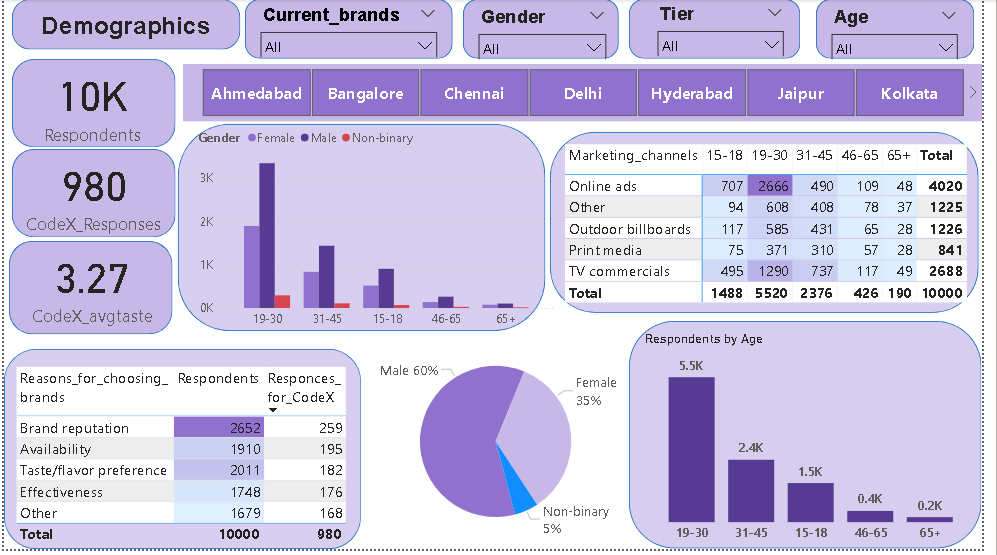

The page's visual inventory and layout, read from the dashboard file:
{"tool":"powerbi","page":{"name":"Demographics","canvas":[1280,720],"ordinal":0},"visuals":[{"type":"shape","box":[818.6,421.2,461.4,297.7],"z":0},{"type":"shape","box":[0,458.4,467.3,262],"z":1000},{"type":"shape","box":[714.4,174.1,561.1,236.7],"z":2000},{"type":"shape","box":[227.7,163.7,480.7,270.9],"z":3000},{"type":"shape","box":[1062.7,0,207.1,78.1],"z":4000},{"type":"shape","box":[818.2,0,224.1,78.1],"z":5000},{"type":"shape","box":[601,0,203.7,78.1],"z":6000},{"type":"shape","box":[315.8,0,271.6,78.1],"z":7000},{"type":"shape","box":[10.2,196.9,213.9,115.4],"z":8000},{"type":"shape","box":[10.2,78.1,213.9,115.4],"z":9000},{"type":"shape","box":[10.2,0,298.8,66.2],"z":10000},{"type":"textbox","box":[10.2,10.2,298.8,47.5],"z":11000},{"type":"card","fields":{"Values":["Measuretable.Total_People"]},"box":[25.5,78.1,181.6,115.4],"z":12000},{"type":"shape","box":[6.8,317.5,213.9,122.2],"z":13000},{"type":"card","fields":{"Values":["Measuretable.Responces_for_CodeX"]},"box":[22.1,193.5,190.1,118.8],"z":14000},{"type":"card","fields":{"Values":["Measuretable.CodeX_avg_taste_exp"]},"box":[25.5,312.4,181.6,122.2],"z":15000},{"type":"pieChart","fields":{"Category":["dim_repondents.Gender"],"Y":["Measuretable.Total_People"]},"box":[468.8,439.1,349.8,281.3],"z":16000},{"type":"columnChart","fields":{"Category":["dim_repondents.Age"],"Y":["Measuretable.Total_People"]},"box":[833.5,434.6,446.5,285.2],"z":17000},{"type":"pivotTable","fields":{"Rows":["fact_survey_responses.Marketing_channels"],"Values":["Measuretable.Total_People"],"Columns":["dim_repondents.Age"]},"box":[733.8,187.5,544.7,217.3],"z":18000},{"type":"clusteredColumnChart","fields":{"Y":["Measuretable.Total_People"],"Category":["dim_repondents.Age"],"Series":["dim_repondents.Gender"]},"box":[250,159.3,474.8,279.8],"z":19000},{"type":"tableEx","fields":{"Values":["fact_survey_responses.Reasons_for_choosing_brands","Measuretable.Total_People","Measuretable.Responces_for_CodeX"]},"box":[10.4,476.3,467.3,242.6],"z":20000},{"type":"slicer","fields":{"Values":["dim_cities.City"]},"box":[234.3,84.9,1045.7,74.7],"z":21000},{"type":"slicer","fields":{"Values":["dim_repondents.Gender"]},"box":[611.1,3.4,186.7,74.7],"z":22000},{"type":"slicer","fields":{"Values":["fact_survey_responses.Current_brands"]},"box":[325.9,1.7,251.2,74.7],"z":23000},{"type":"slicer","fields":{"Values":["dim_repondents.Age"]},"box":[1072.9,3.4,185,74.7],"z":24000},{"type":"slicer","fields":{"Values":["dim_cities.Tier"]},"box":[845.4,0,185,74.7],"z":25000}]}

Visuals, with their boxes in screenshot pixels (x1, y1, x2, y2), scaled from the page's 1280x720 canvas onto the 997x555 screenshot:
shape: <bbox>638, 325, 996, 554</bbox>
shape: <bbox>0, 353, 364, 554</bbox>
shape: <bbox>556, 134, 993, 317</bbox>
shape: <bbox>177, 126, 552, 335</bbox>
shape: <bbox>828, 0, 989, 60</bbox>
shape: <bbox>637, 0, 812, 60</bbox>
shape: <bbox>468, 0, 627, 60</bbox>
shape: <bbox>246, 0, 458, 60</bbox>
shape: <bbox>8, 152, 175, 241</bbox>
shape: <bbox>8, 60, 175, 149</bbox>
shape: <bbox>8, 0, 241, 51</bbox>
textbox: <bbox>8, 8, 241, 44</bbox>
card - Measuretable.Total_People: <bbox>20, 60, 161, 149</bbox>
shape: <bbox>5, 245, 172, 339</bbox>
card - Measuretable.Responces_for_CodeX: <bbox>17, 149, 165, 241</bbox>
card - Measuretable.CodeX_avg_taste_exp: <bbox>20, 241, 161, 335</bbox>
pieChart - dim_repondents.Gender x Measuretable.Total_People: <bbox>365, 338, 638, 554</bbox>
columnChart - dim_repondents.Age x Measuretable.Total_People: <bbox>649, 335, 996, 554</bbox>
pivotTable - fact_survey_responses.Marketing_channels x Measuretable.Total_People: <bbox>572, 145, 996, 312</bbox>
clusteredColumnChart - Measuretable.Total_People x dim_repondents.Age: <bbox>195, 123, 565, 338</bbox>
tableEx - fact_survey_responses.Reasons_for_choosing_brands x Measuretable.Total_People: <bbox>8, 367, 372, 554</bbox>
slicer - dim_cities.City: <bbox>182, 65, 996, 123</bbox>
slicer - dim_repondents.Gender: <bbox>476, 3, 621, 60</bbox>
slicer - fact_survey_responses.Current_brands: <bbox>254, 1, 450, 59</bbox>
slicer - dim_repondents.Age: <bbox>836, 3, 980, 60</bbox>
slicer - dim_cities.Tier: <bbox>658, 0, 803, 58</bbox>
